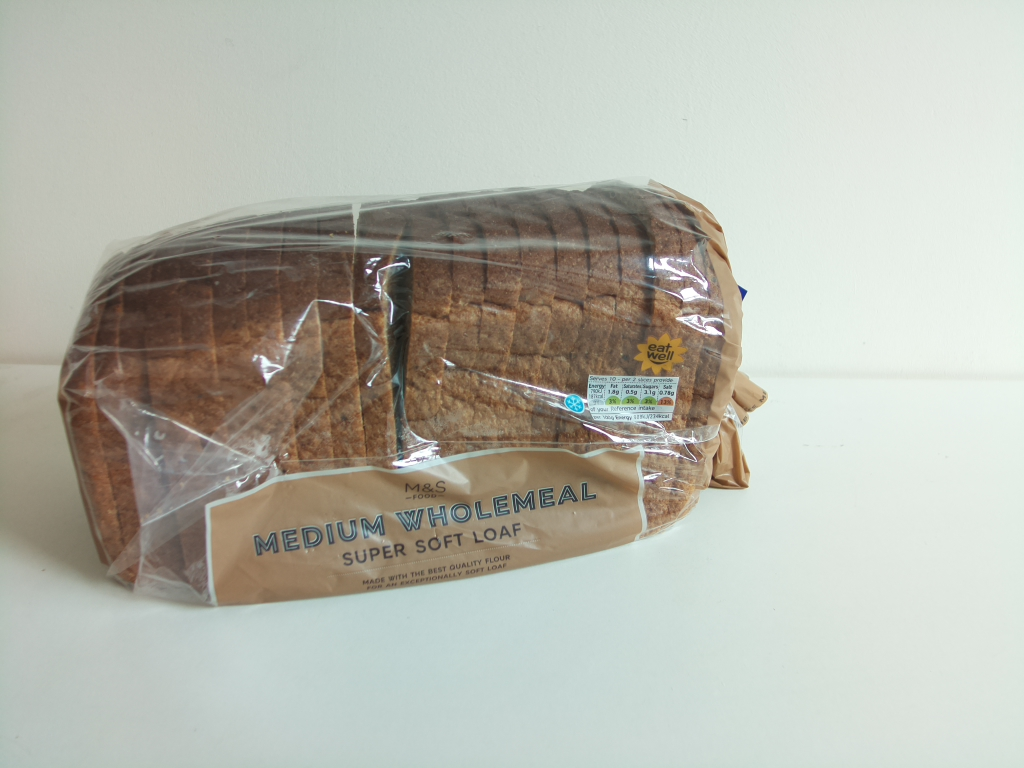bread: (63, 177, 745, 612)
